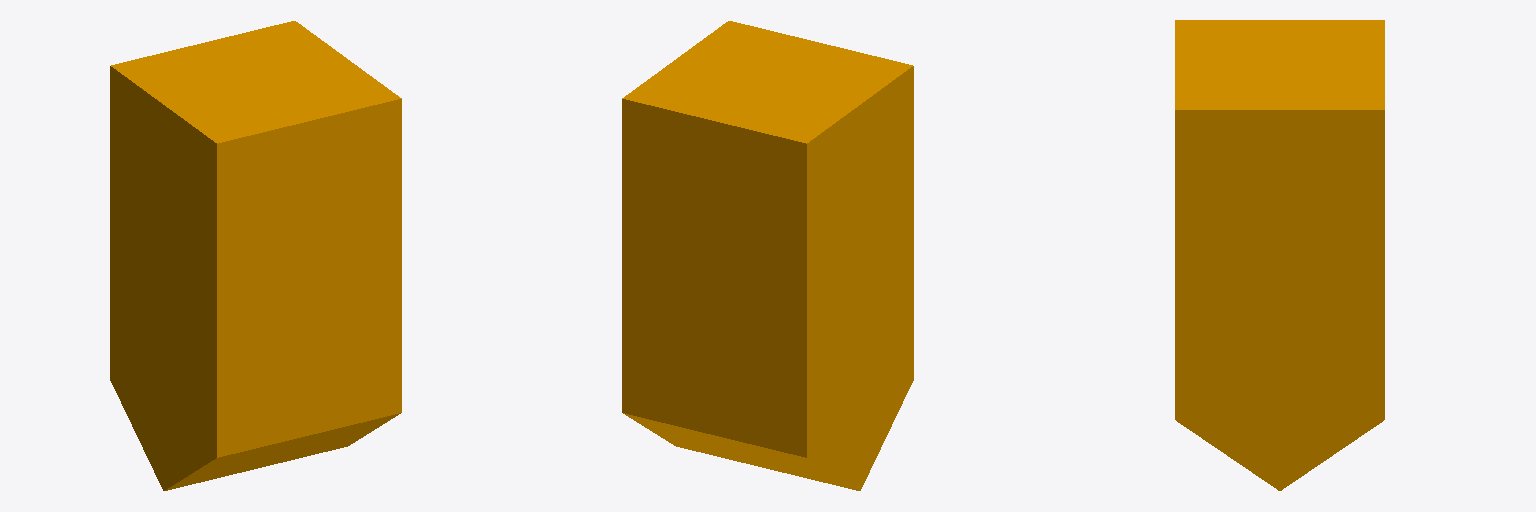
URDF robot description (peg_mountain):
<?xml version="1.0"?>
<robot name="peg_mountain">
    <link name="peg_mountain">
        <visual>
            <geometry>
                <mesh filename="../mesh/vitascope_pegs/peg_mountain.obj"/>
            </geometry>
        </visual>
        <collision>
            <geometry>
                <mesh filename="../mesh/vitascope_pegs/peg_mountain.obj"/>
            </geometry>
            <sdf resolution="256"/>
        </collision>
    </link>
</robot>

--- Facts derived from the render (not from the file) ---
Views: 3 orthographic renders of the robot side by side, from view 1: azimuth 30°, elevation 25°; view 2: azimuth 150°, elevation 25°; view 3: azimuth 270°, elevation 25°.
Model peg_mountain with 1 links and 0 joints (none), rooted at peg_mountain, posed every joint at zero.
Visible links, largest first — view 1: peg_mountain; view 2: peg_mountain; view 3: peg_mountain.
Boxes of the visible links, x1=… form: peg_mountain: x1=110, y1=21, x2=401, y2=490; peg_mountain: x1=622, y1=21, x2=913, y2=490; peg_mountain: x1=1175, y1=20, x2=1384, y2=490.
Size in the robot's own frame: 0.04 by 0.04 by 0.08 metres.
1 mesh visuals loaded from 1 distinct referenced files (1 OBJ).
